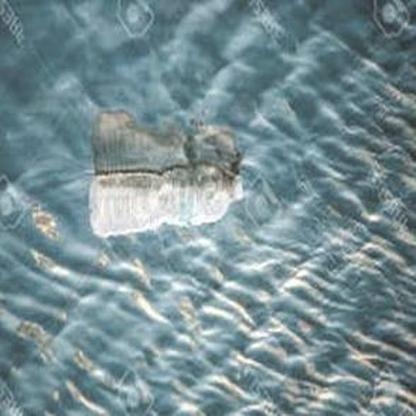plastic bottle: (90, 162, 245, 238)
